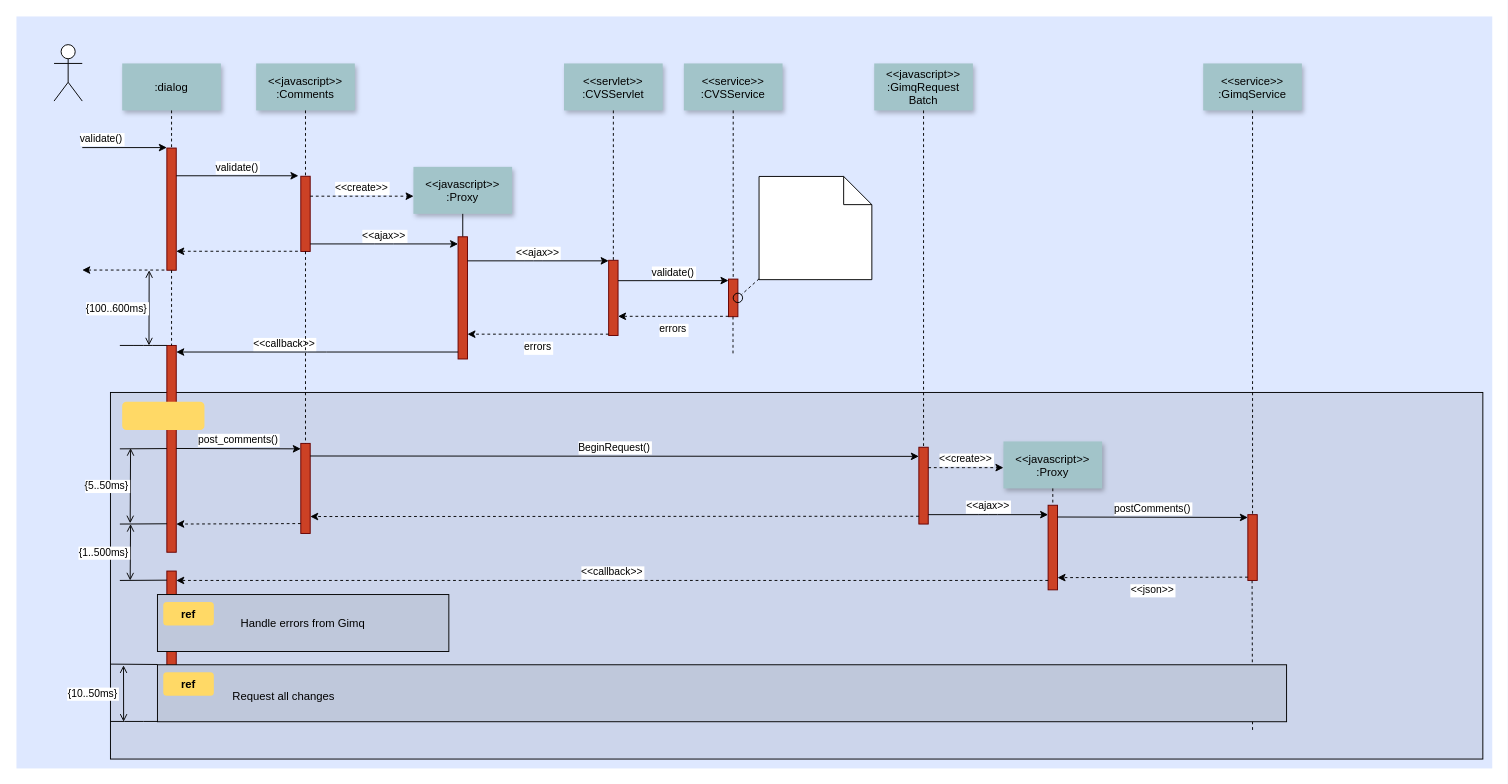
Image size: 1508x784. Some labels were removed from this diagram. The shapes that lost their labels are listed below. From the top down, each one's centre as x and y in pixels, then its label:
At [67,72]: "Actor".
At [815,227]: "- user validation - password check".
At [163,415]: "opt".
